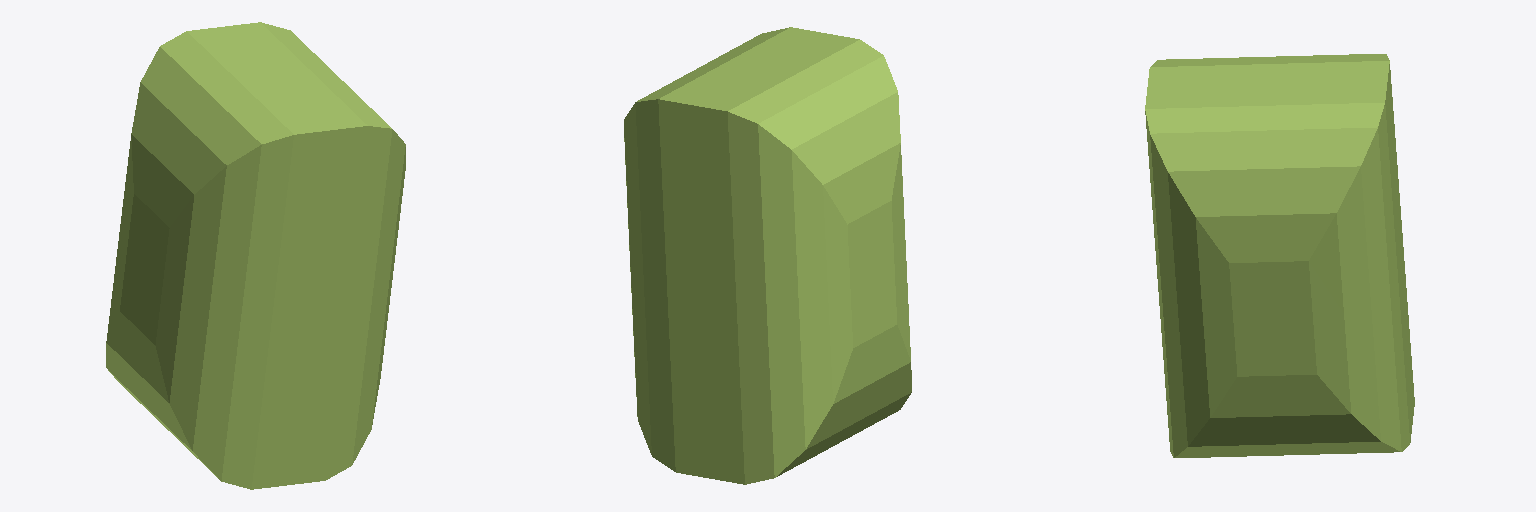
File: Light01.obj
The picture shows the model from 3 angles: view 1: azimuth 30°, elevation 25°; view 2: azimuth 150°, elevation 25°; view 3: azimuth 270°, elevation 25°; orthographic projection.
Parts seen in each view (by area): view 1: Cube; view 2: Cube; view 3: Cube.
Part boxes in pixels (left/top/right/bottom): Cube: left=106, top=22, right=405, bottom=489; Cube: left=624, top=27, right=911, bottom=484; Cube: left=1145, top=54, right=1414, bottom=457.
Size of the model in its own units: 0.2996 by 0.4689 by 0.3046.